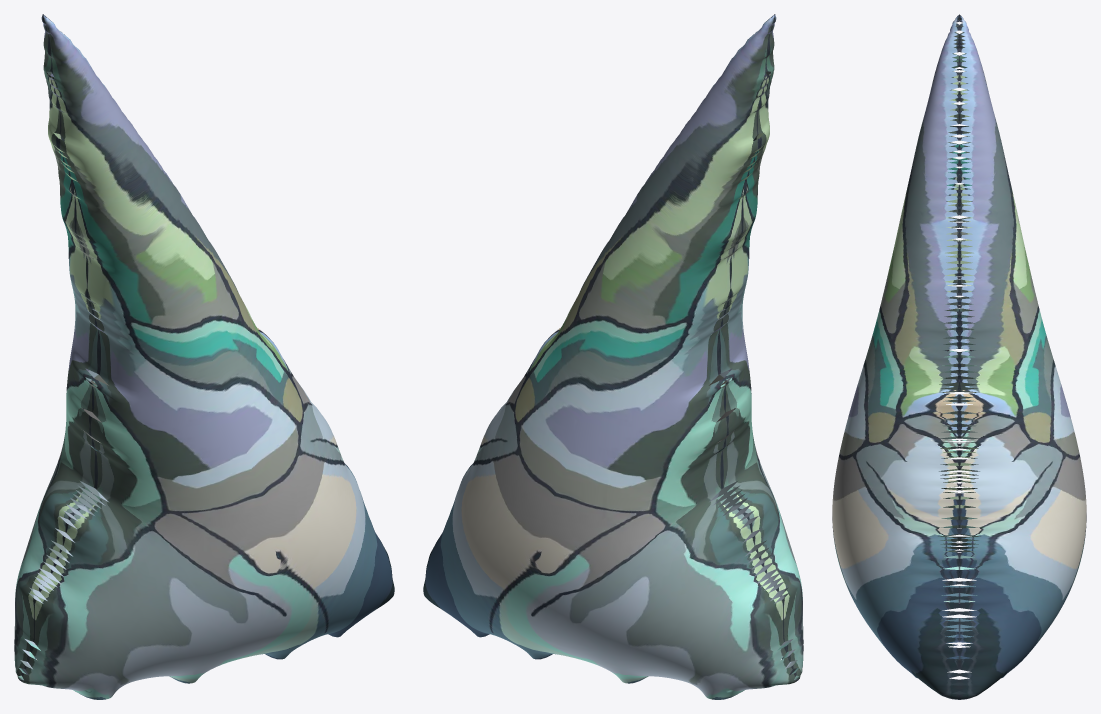
Rendered from rim_cliff.glb.
The picture shows the model from 3 angles, left to right: view 1: azimuth 30°, elevation 25°; view 2: azimuth 150°, elevation 25°; view 3: azimuth 270°, elevation 25°; orthographic projection. The views are drawn at different scales.
Visible parts, largest first — view 1: rim_cliff; view 2: rim_cliff; view 3: rim_cliff.
Boxes of the visible parts, bbox=[...] form: rim_cliff: bbox=[14, 14, 394, 699]; rim_cliff: bbox=[423, 14, 803, 699]; rim_cliff: bbox=[832, 14, 1086, 699].
Bounding box in the file's own units: 0.9797 × 1.7 × 0.7077.
Materials: 1 (1 with a texture image).
